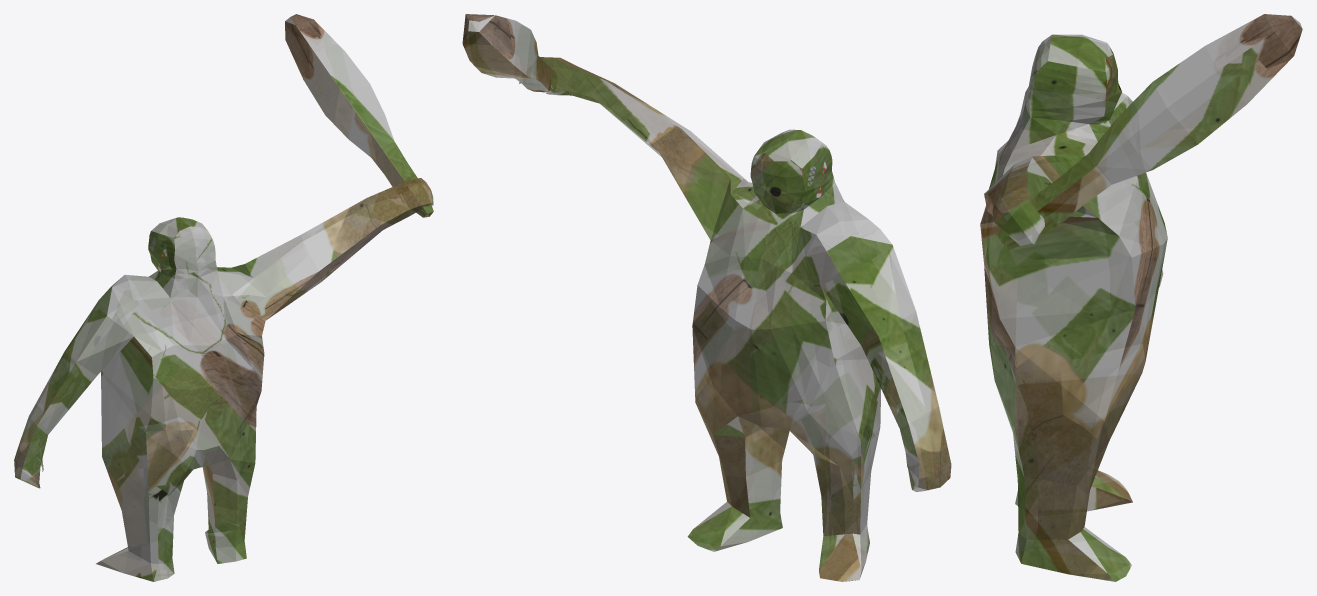
The model's file is Enemigo213.obj.
The picture shows the model from 3 angles, left to right: view 1: azimuth 30°, elevation 25°; view 2: azimuth 150°, elevation 25°; view 3: azimuth 270°, elevation 25°; orthographic projection. The views are drawn at different scales.
Parts seen in each view (by area): view 1: Cube; view 2: Cube; view 3: Cube.
Part boxes in pixels (x1,y1,x2,y2): Cube: (14, 14, 433, 581); Cube: (462, 14, 951, 581); Cube: (980, 14, 1302, 581).
Size of the model in its own units: 3.18 by 3.52 by 1.58.
Materials: 1 (1 with a texture image).
